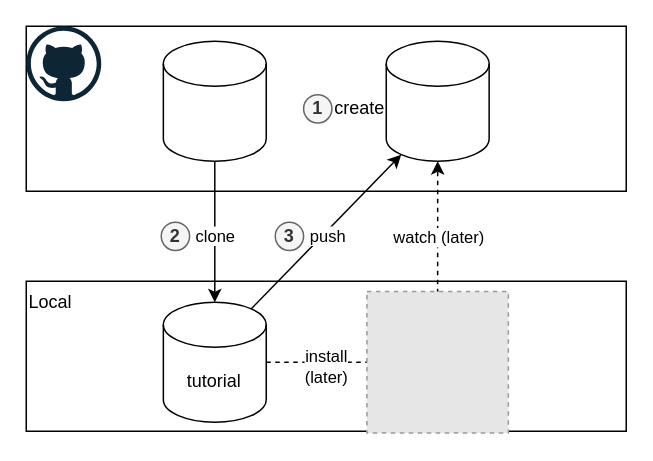
This 653x461 diagram has some shape labels left out. Grey dashed boxes stand in for pictures. Each missing label, with the centre of its shape:
<private> your/ tutorial: the point at 437,100
<public> pipe-cd/ tutorial: the point at 214,100
